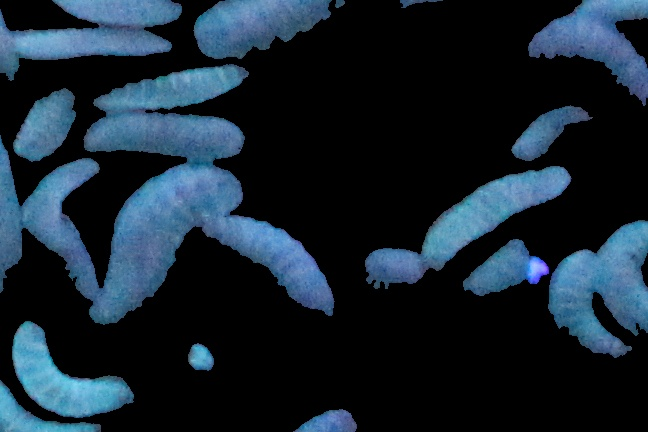larvae: (77, 167, 249, 334), (201, 210, 351, 340), (420, 169, 577, 276), (9, 322, 145, 417), (358, 243, 532, 315), (194, 1, 401, 60), (530, 12, 648, 102), (542, 257, 635, 365), (27, 164, 100, 293), (99, 56, 247, 110), (18, 70, 88, 165), (85, 119, 247, 158), (601, 211, 648, 335), (514, 98, 592, 161), (19, 28, 173, 58), (39, 1, 186, 27), (570, 1, 648, 28), (1, 1, 18, 80)
